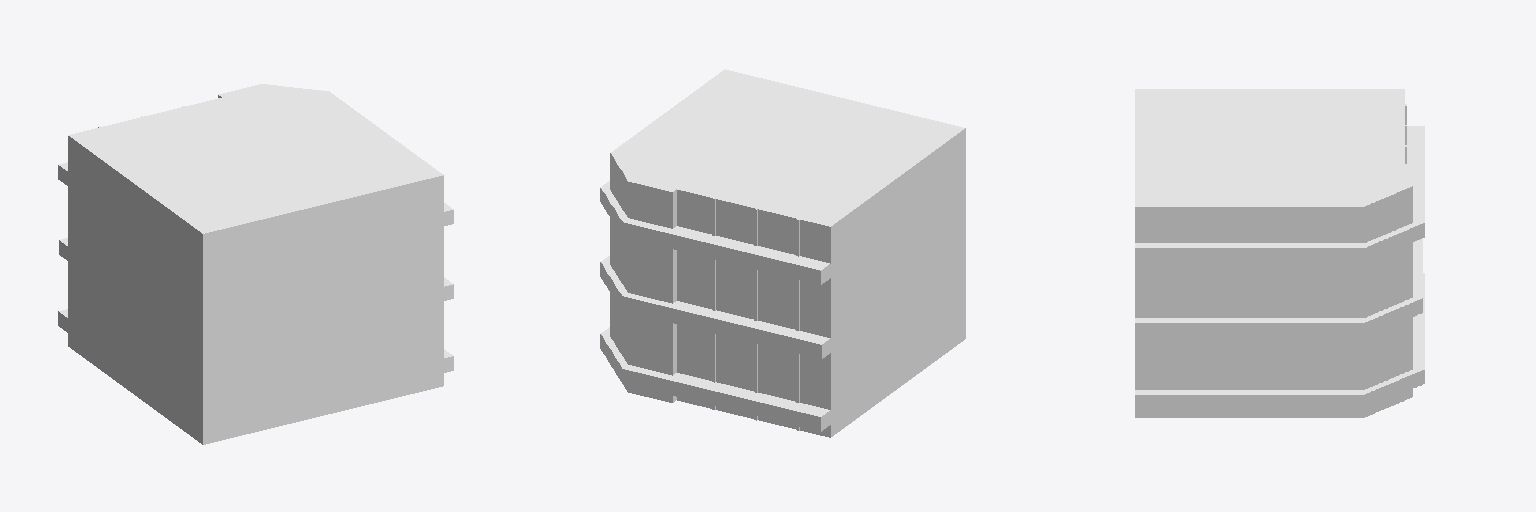
The model's file is skyscraper-6.obj.
3 renders of one model, left to right at view 1: azimuth 30°, elevation 25°; view 2: azimuth 150°, elevation 25°; view 3: azimuth 270°, elevation 25°, orthographic.
Parts seen in each view (by area): view 1: object 1; view 2: object 1; view 3: object 1.
Part boxes in pixels (bbox=[...]): object 1: bbox=[58, 84, 453, 444]; object 1: bbox=[600, 69, 965, 437]; object 1: bbox=[1135, 89, 1424, 417].
Bounding box in the file's own units: 17.9 × 14.4 × 17.9.